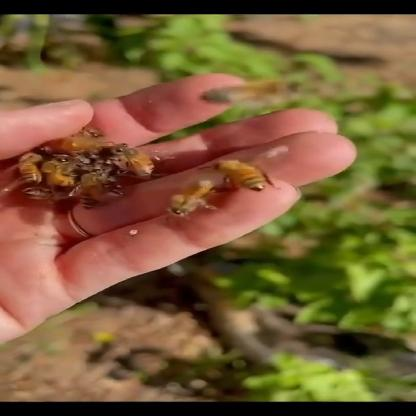bee: (0, 95, 323, 236)
